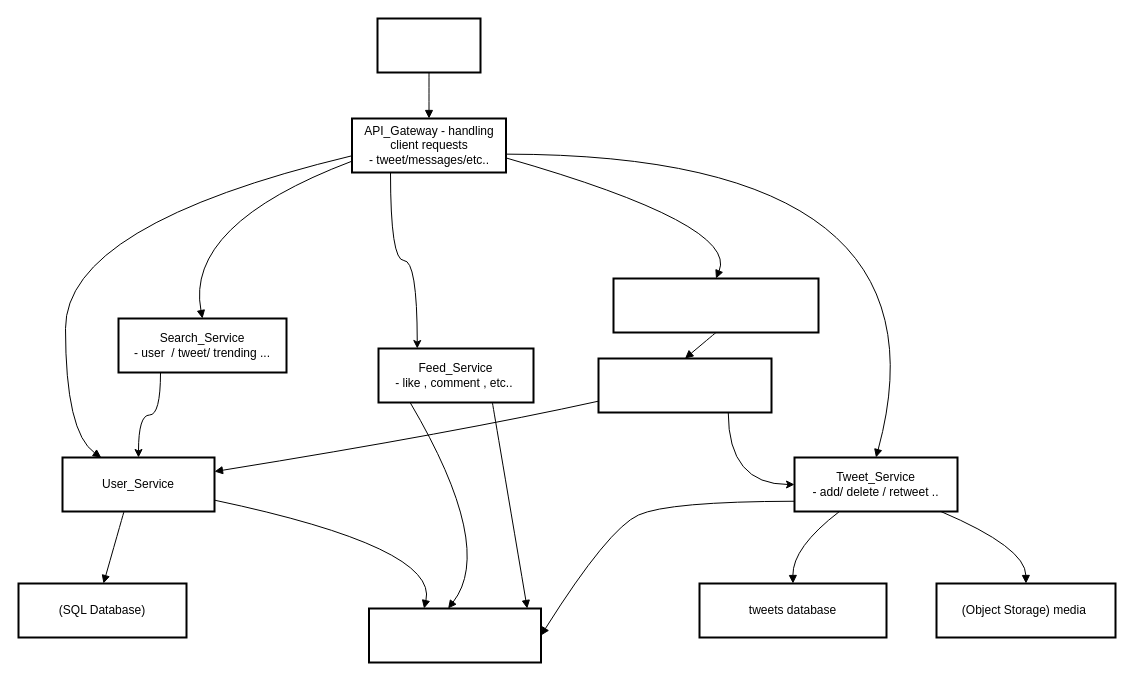
Image size: 1133x680. Some labels were removed from this diagram. Here are the shapes that lost their labels. From the top down, the centre of each, then its label:
point (428, 45): Client (user)
point (715, 305): Notification_Service
point (684, 385): Message_queue
point (455, 635): (Caching Layer) User Data
